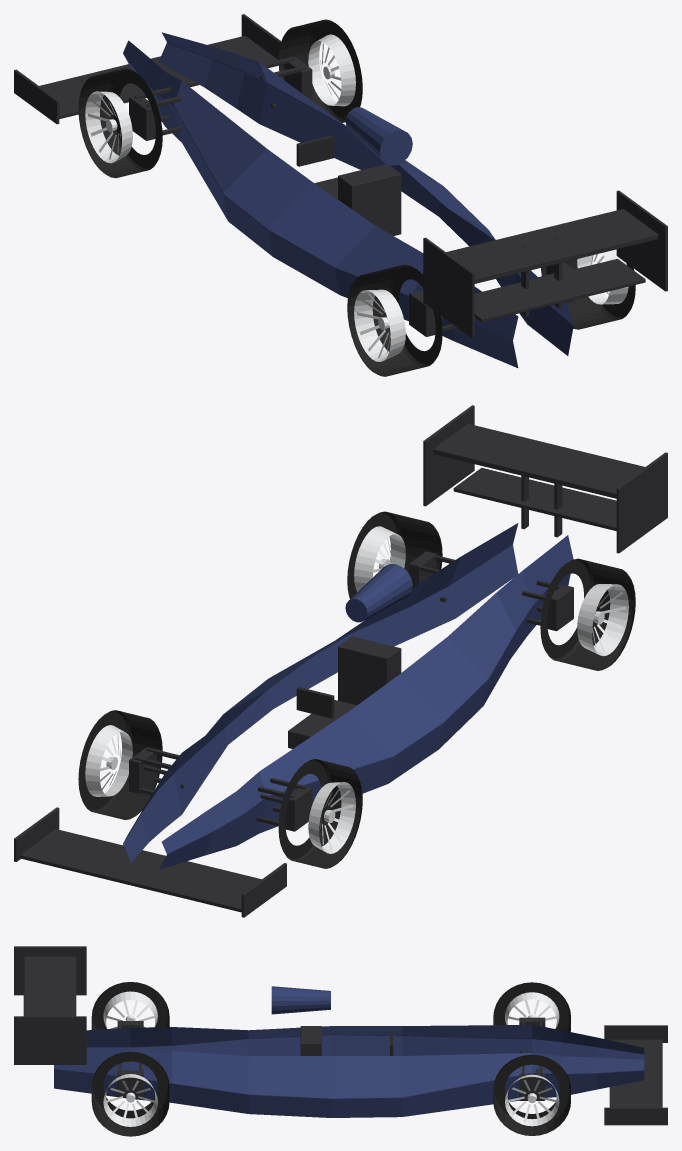
The model's file is Car_Red_Bull_RB9_2010s_Complete.glb.
The picture shows the model from 3 angles, top to bottom: view 1: azimuth 30°, elevation 25°; view 2: azimuth 150°, elevation 25°; view 3: azimuth 270°, elevation 25°; orthographic projection. The views are drawn at different scales.
Visible parts, largest first — view 1: BODY_RedBull_RB9_Monocoque, AERO_RedBull_RB9_F1Wings, WHEEL_RR_Tire, WHEEL_FR_Tire, INTERIOR_F1Seat, WHEEL_RR_Rim, WHEEL_FL_Tire, WHEEL_FR_Rim, AERO_RedBull_Airbox, WHEEL_FL_Rim, WHEEL_RL_Tire, CHASSIS_SuspensionWishbones (+5 smaller); view 2: BODY_RedBull_RB9_Monocoque, AERO_RedBull_RB9_F1Wings, INTERIOR_F1Seat, WHEEL_RR_Tire, WHEEL_FR_Tire, WHEEL_FL_Tire, WHEEL_RR_Rim, WHEEL_RL_Tire, WHEEL_FR_Rim, AERO_RedBull_Airbox, WHEEL_FL_Rim, WHEEL_RL_Rim (+5 smaller); view 3: BODY_RedBull_RB9_Monocoque, AERO_RedBull_RB9_F1Wings, WHEEL_RL_Tire, WHEEL_FL_Tire, AERO_RedBull_Airbox, WHEEL_RR_Tire, WHEEL_FR_Tire, WHEEL_RL_Rim, WHEEL_FL_Rim, WHEEL_RR_Rim, WHEEL_FR_Rim, INTERIOR_F1Seat (+2 smaller).
Boxes of the visible parts, bbox=[...] form: BODY_RedBull_RB9_Monocoque: bbox=[123, 32, 573, 367]; AERO_RedBull_RB9_F1Wings: bbox=[14, 14, 667, 338]; WHEEL_RR_Tire: bbox=[347, 264, 442, 376]; WHEEL_FR_Tire: bbox=[78, 68, 162, 178]; INTERIOR_F1Seat: bbox=[314, 164, 401, 235]; WHEEL_RR_Rim: bbox=[354, 289, 405, 361]; WHEEL_FL_Tire: bbox=[278, 19, 362, 122]; WHEEL_FR_Rim: bbox=[85, 91, 132, 163]; AERO_RedBull_Airbox: bbox=[345, 107, 412, 165]; WHEEL_FL_Rim: bbox=[308, 34, 355, 106]; WHEEL_RL_Tire: bbox=[541, 259, 635, 329]; CHASSIS_SuspensionWishbones: bbox=[134, 57, 554, 331]; BODY_RedBull_RB9_Monocoque: bbox=[123, 523, 573, 869]; AERO_RedBull_RB9_F1Wings: bbox=[14, 405, 667, 917]; INTERIOR_F1Seat: bbox=[288, 636, 401, 748]; WHEEL_RR_Tire: bbox=[540, 558, 635, 670]; WHEEL_FR_Tire: bbox=[278, 759, 362, 868]; WHEEL_FL_Tire: bbox=[78, 710, 162, 819]; WHEEL_RR_Rim: bbox=[577, 584, 628, 656]; WHEEL_RL_Tire: bbox=[347, 511, 442, 598]; WHEEL_FR_Rim: bbox=[308, 782, 355, 853]; AERO_RedBull_Airbox: bbox=[345, 564, 412, 622]; WHEEL_FL_Rim: bbox=[85, 725, 132, 796]; WHEEL_RL_Rim: bbox=[354, 526, 405, 591]; BODY_RedBull_RB9_Monocoque: bbox=[54, 1025, 644, 1117]; AERO_RedBull_RB9_F1Wings: bbox=[14, 946, 667, 1125]; WHEEL_RL_Tire: bbox=[91, 1051, 169, 1136]; WHEEL_FL_Tire: bbox=[493, 1054, 570, 1135]; AERO_RedBull_Airbox: bbox=[271, 986, 330, 1014]; WHEEL_RR_Tire: bbox=[91, 982, 169, 1029]; WHEEL_FR_Tire: bbox=[493, 982, 570, 1031]; WHEEL_RL_Rim: bbox=[103, 1074, 157, 1126]; WHEEL_FL_Rim: bbox=[505, 1074, 559, 1126]; WHEEL_RR_Rim: bbox=[103, 991, 157, 1028]; WHEEL_FR_Rim: bbox=[505, 992, 559, 1028]; INTERIOR_F1Seat: bbox=[300, 1026, 321, 1055].
Bounding box in the file's own units: 1.73 × 1.05 × 5.54.
